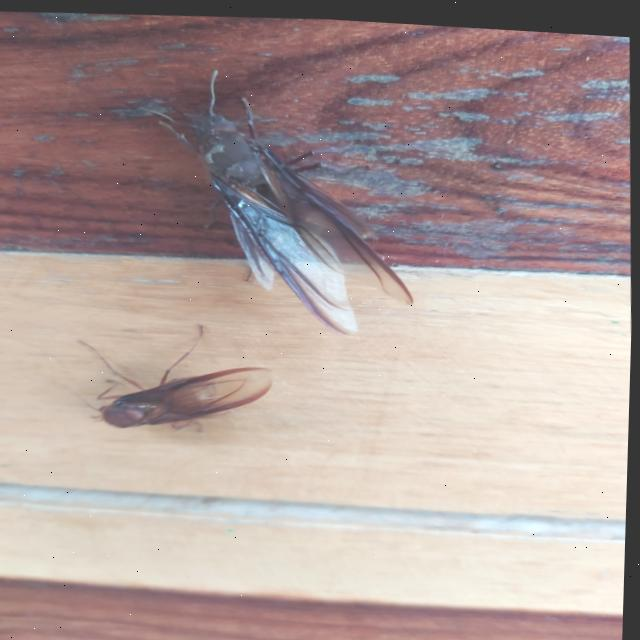Alive-Female-Alate: (134, 57, 423, 342), (75, 309, 278, 439)
